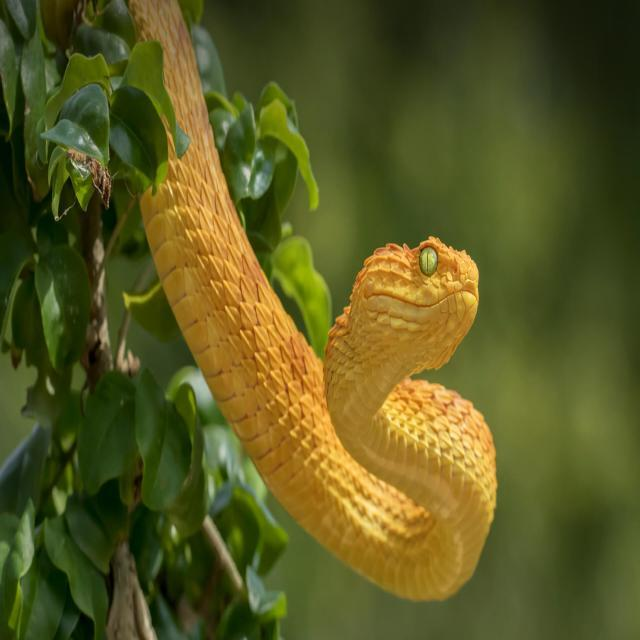Snake: (110, 0, 522, 613)
